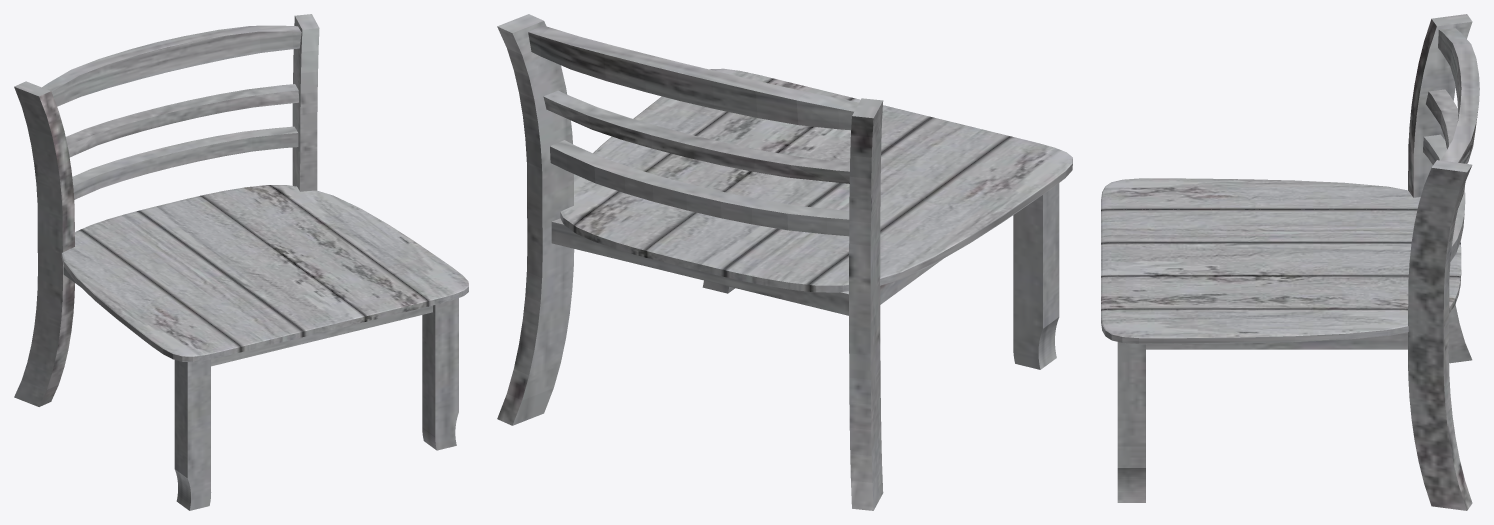
Rendered from sh-bsby-kitchen-chair.glb.
3 renders of one model, left to right at view 1: azimuth 30°, elevation 25°; view 2: azimuth 150°, elevation 25°; view 3: azimuth 270°, elevation 25°, orthographic. The views are drawn at different scales.
Visible parts, largest first — view 1: Plane_Plane.003; view 2: Plane_Plane.003; view 3: Plane_Plane.003.
Boxes of the visible parts, <box> form: Plane_Plane.003: <box>14,14,468,510</box>; Plane_Plane.003: <box>497,14,1072,510</box>; Plane_Plane.003: <box>1101,14,1479,510</box>.
Bounding box in the file's own units: 1 × 1 × 1.
Materials: 1 (1 with a texture image).
